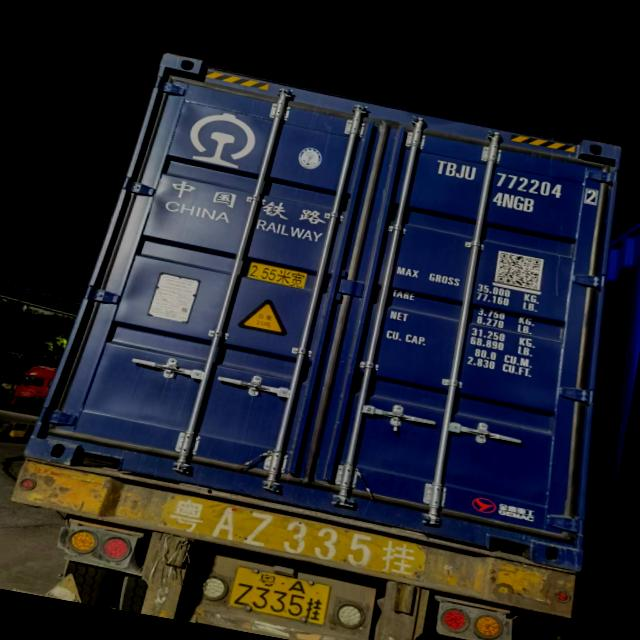seal: (386, 402, 408, 438)
